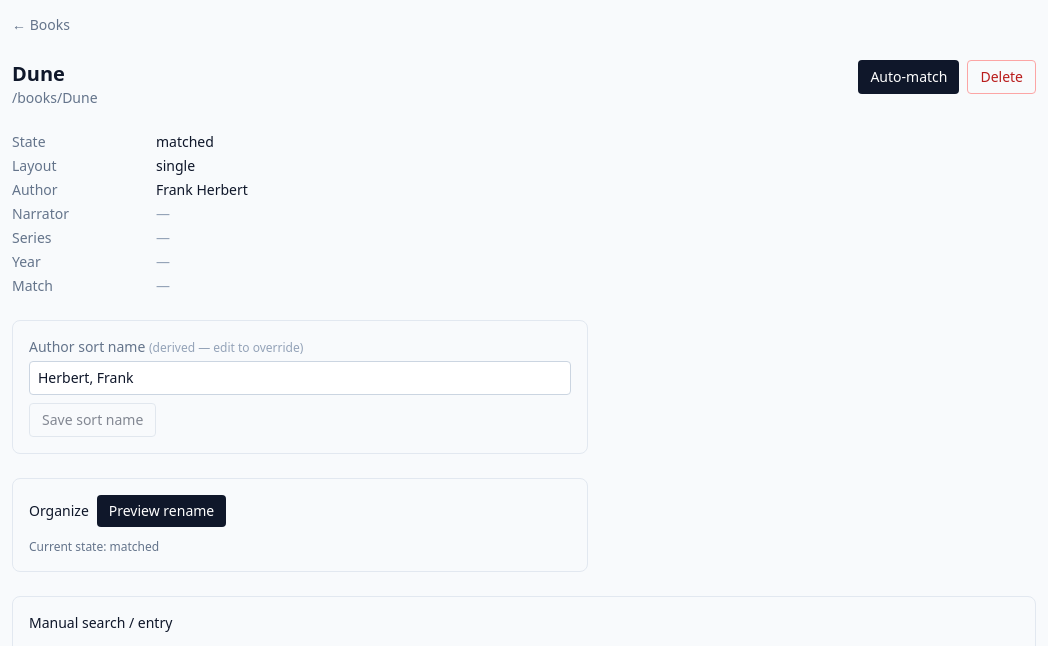
Test case: BookDetail organize panel › waits for the organize job to finish, then reloads so the book shows organized
This screenshot has width=1048, height=646.
Click the button "Preview rename". click: click(162, 511)
box: [97, 495, 226, 527]
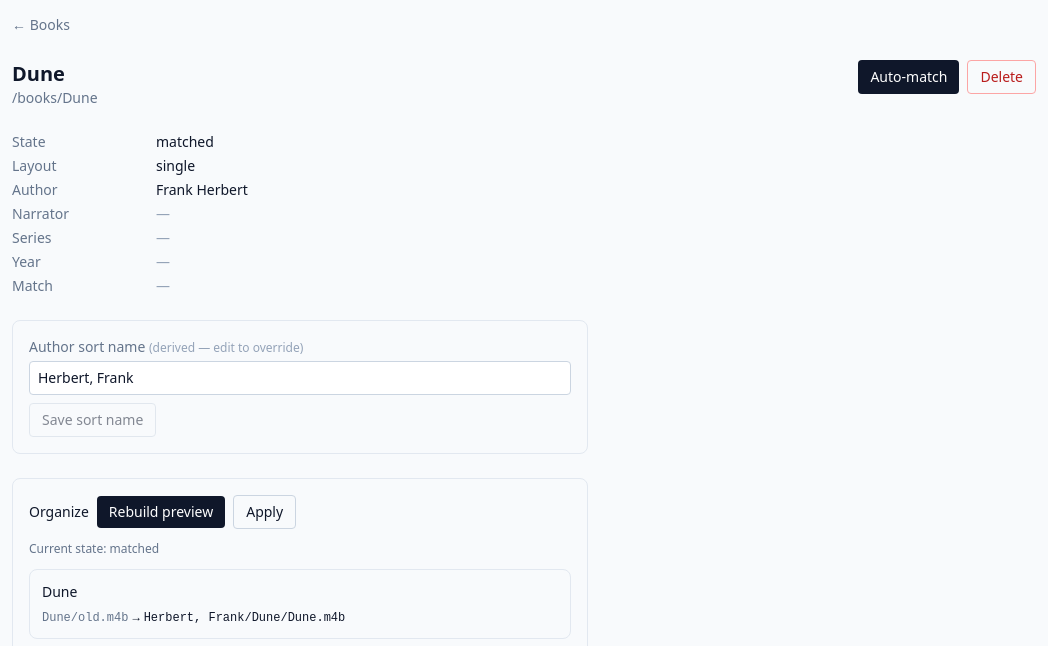
Expected: the text "Herbert, Frank/Dune/Dune.m4b" is shown, [144, 611, 345, 625]
Click the button "Apply". click: click(265, 512)
box: [233, 495, 296, 529]
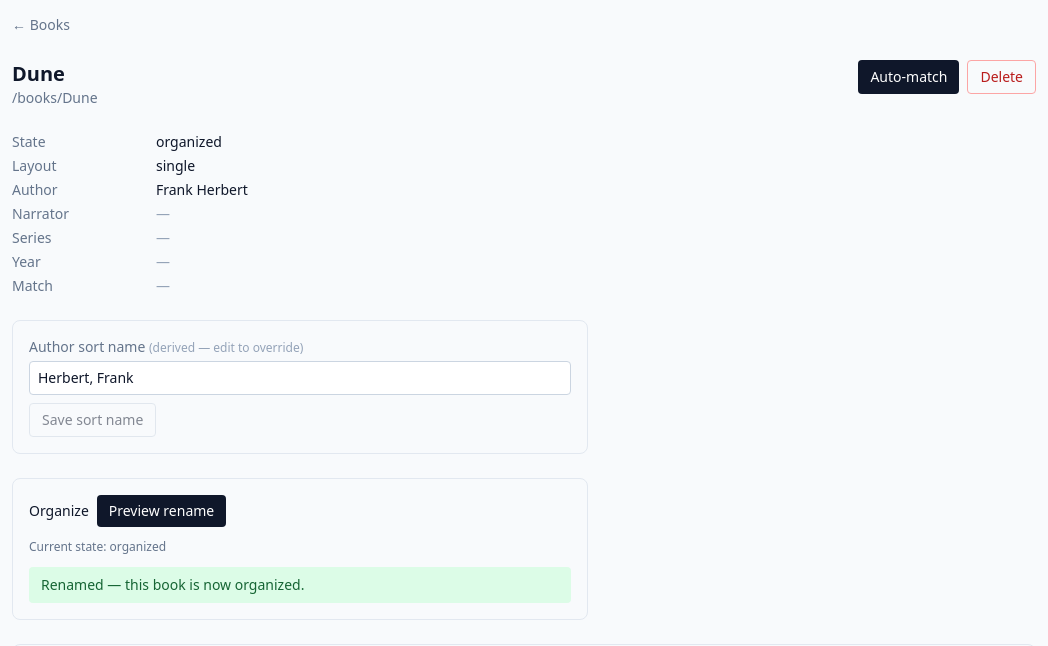
Expected: the text "Renamed — this book is now organized." is shown, [29, 567, 571, 603]
